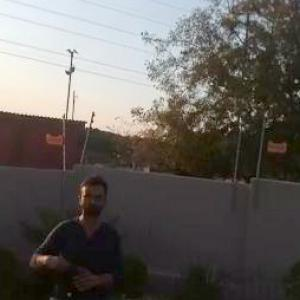follow: (22, 165, 136, 299)
